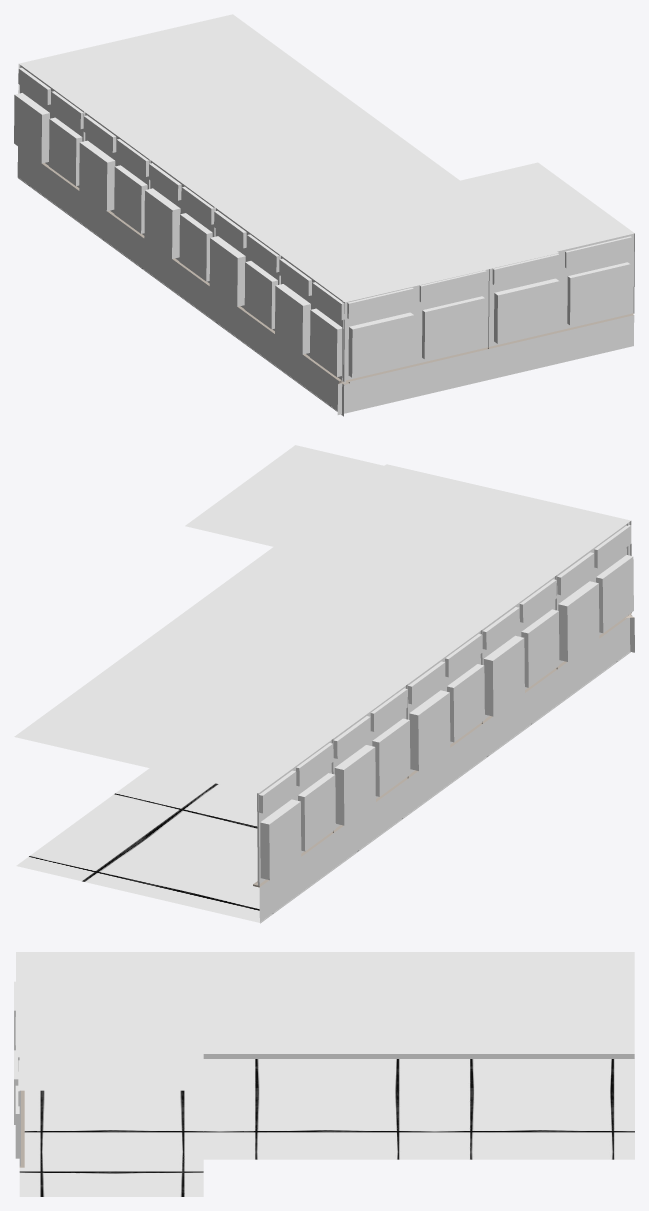
Rendered from Corner_Clean.fbx.
The picture shows the model from 3 angles, top to bottom: view 1: azimuth 30°, elevation 25°; view 2: azimuth 150°, elevation 25°; view 3: azimuth 270°, elevation 25°; orthographic projection. The views are drawn at different scales.
Parts seen in each view (by area): view 1: WALL_CorridorWindows_Clean__1__1.001; view 2: WALL_CorridorWindows_Clean__1__1.001, WALL_CorridorWindows_Clean__1__1; view 3: WALL_CorridorWindows_Clean__1__1.001, WALL_CorridorWindows_Clean__1__1.
Part boxes in pixels (left/top/right/bottom): WALL_CorridorWindows_Clean__1__1.001: left=14, top=14, right=634, bottom=416; WALL_CorridorWindows_Clean__1__1.001: left=14, top=445, right=634, bottom=923; WALL_CorridorWindows_Clean__1__1: left=16, top=654, right=626, bottom=922; WALL_CorridorWindows_Clean__1__1.001: left=14, top=952, right=634, bottom=1167; WALL_CorridorWindows_Clean__1__1: left=19, top=1059, right=634, bottom=1196.
Size of the model in its own units: 1280 by 474 by 2424.
